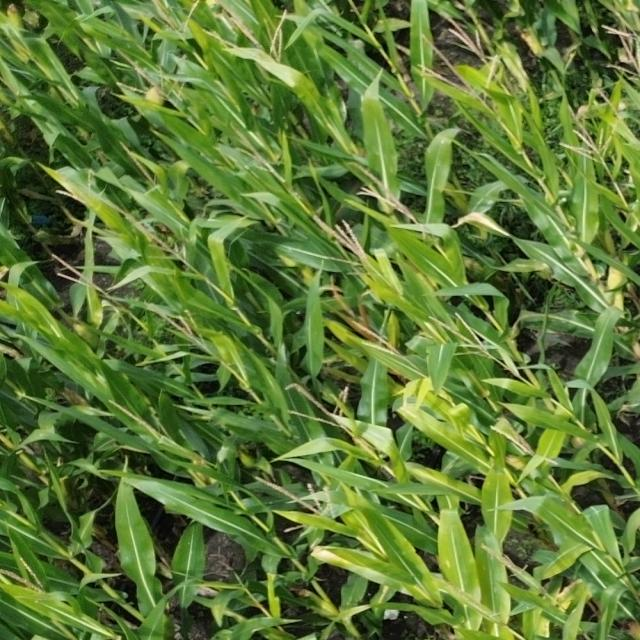gray-leaf-spot: (243, 51, 360, 178), (356, 516, 502, 606), (216, 137, 288, 205)
